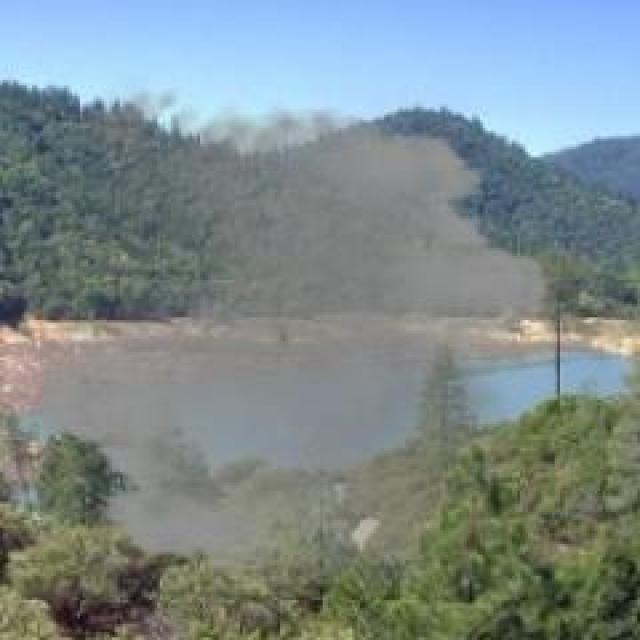smoke: (22, 70, 566, 606)
